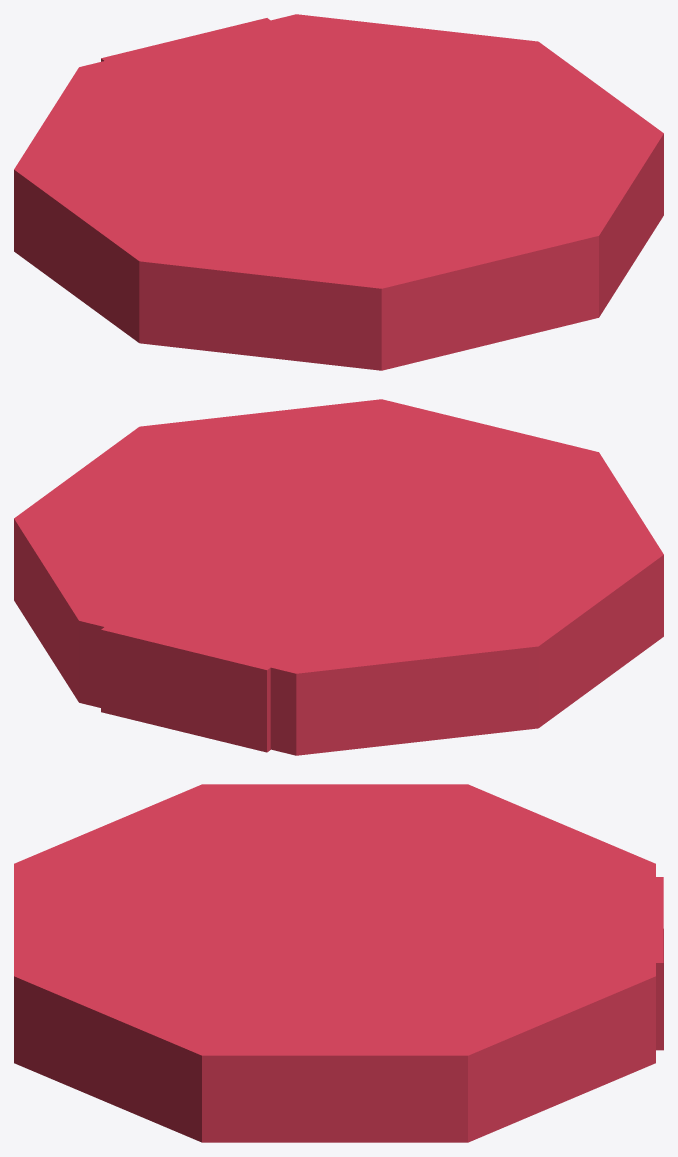
File: Itr_Trashcan4_Cap_04.FBX
3 views of the same model, one above another, from view 1: azimuth 30°, elevation 25°; view 2: azimuth 150°, elevation 25°; view 3: azimuth 270°, elevation 25° (orthographic). The views are drawn at different scales.
Visible parts, largest first — view 1: Itr_Trashcan4_Cap_04; view 2: Itr_Trashcan4_Cap_04; view 3: Itr_Trashcan4_Cap_04.
Part boxes in pixels (x1,y1,x2,y2): Itr_Trashcan4_Cap_04: (14,14,663,370); Itr_Trashcan4_Cap_04: (14,399,663,755); Itr_Trashcan4_Cap_04: (14,784,663,1142).
Size of the model in its own units: 12.01 by 1.8 by 12.15.
